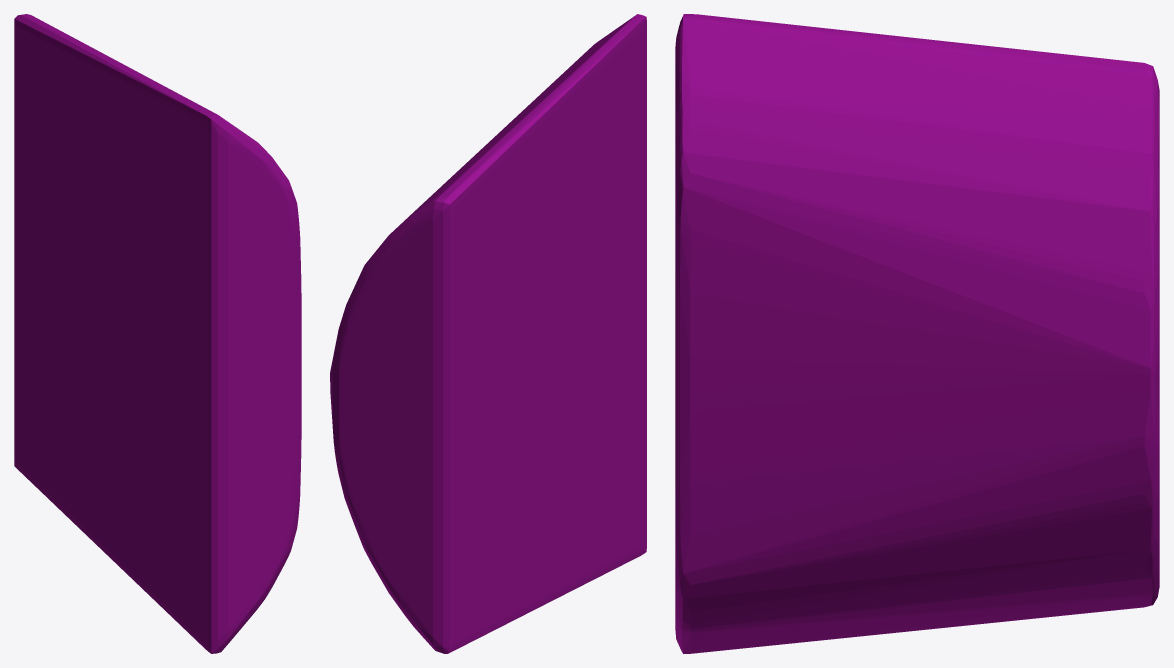
File: left_th_middle_part_14.obj
3 renders of one model, left to right at view 1: azimuth 30°, elevation 25°; view 2: azimuth 150°, elevation 25°; view 3: azimuth 270°, elevation 25°, orthographic. The views are drawn at different scales.
Size of the model in its own units: 4.49 by 19.19 by 13.26.
